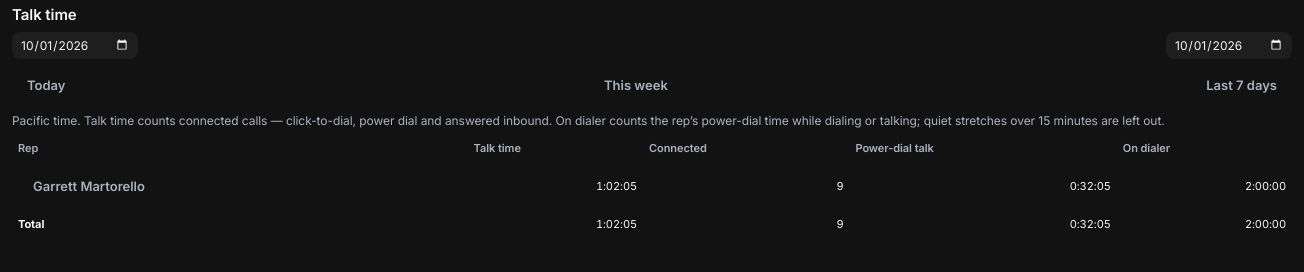
Test: TalkTimePanel › tapping a rep shows their per-day rows
Expected: the text "Thu 10/1" is not shown
Click the button "Garrett Martorello" at (89, 187), box [18,166,160,207]
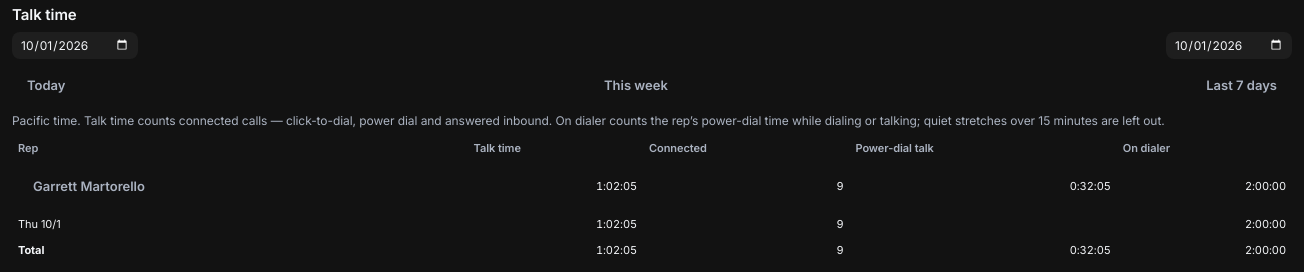
Result: the text "Thu 10/1" is shown at [12,212,468,238]
